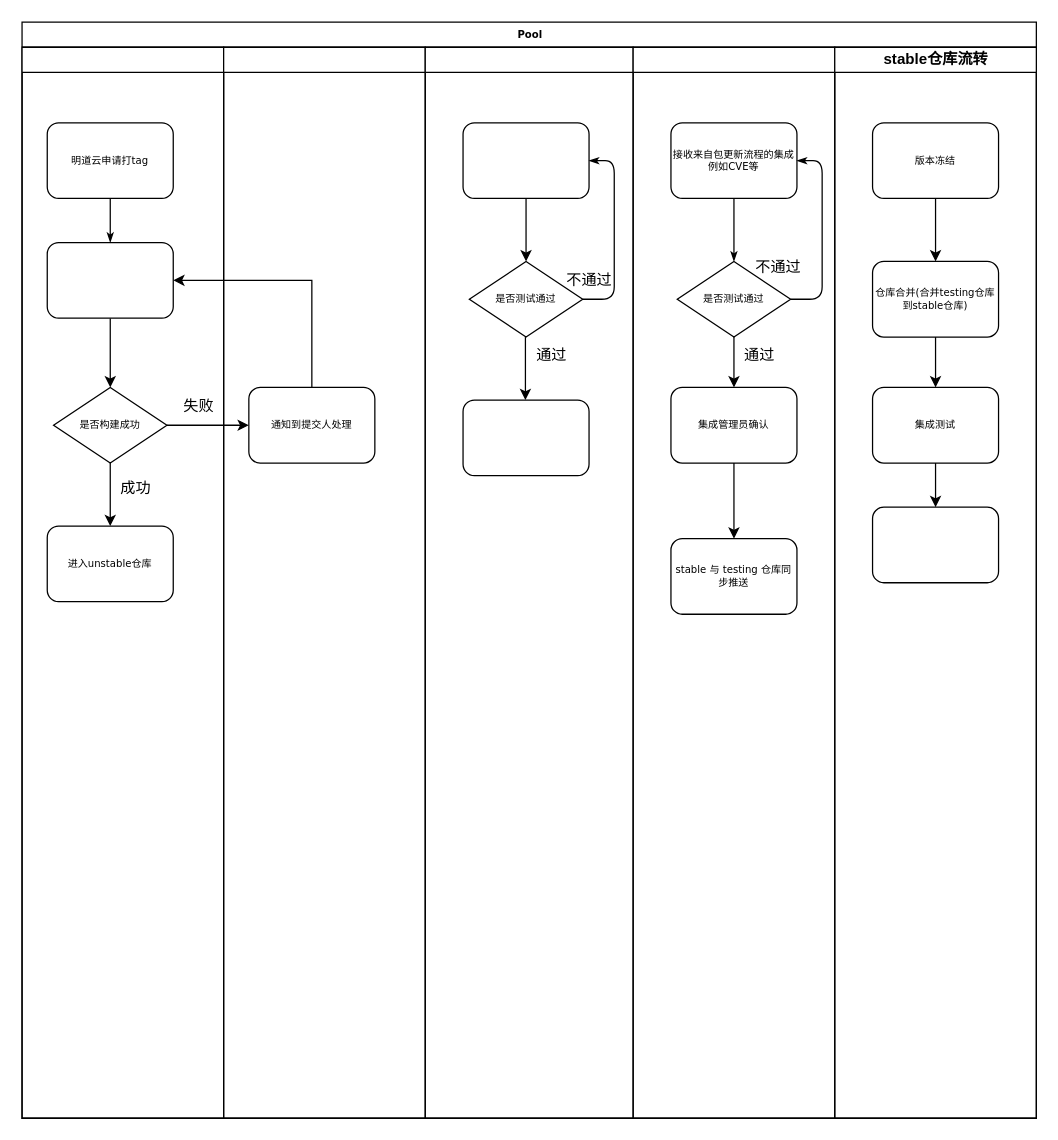
Image size: 1058x1140. Some labels were removed from this diagram. Each missing label, with the box of its shape:
CVE更新: (632, 46, 835, 1118)
Github触发构建: (46, 241, 173, 318)
stable仓库推送: (871, 506, 999, 583)
testing仓库推送: (462, 399, 589, 476)
testing仓库流转: (424, 46, 633, 1118)
unstable仓库流转: (21, 46, 224, 1118)
接收来自包更新流程的集成: (462, 122, 589, 198)
